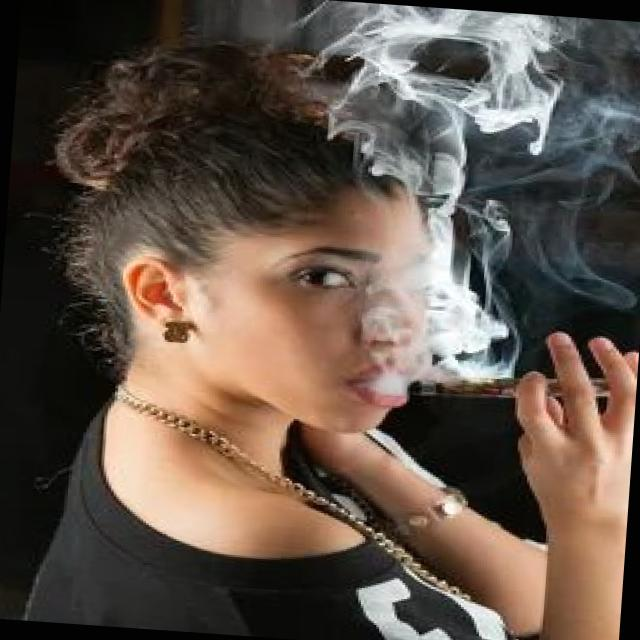cigarette: (406, 358, 628, 416)
